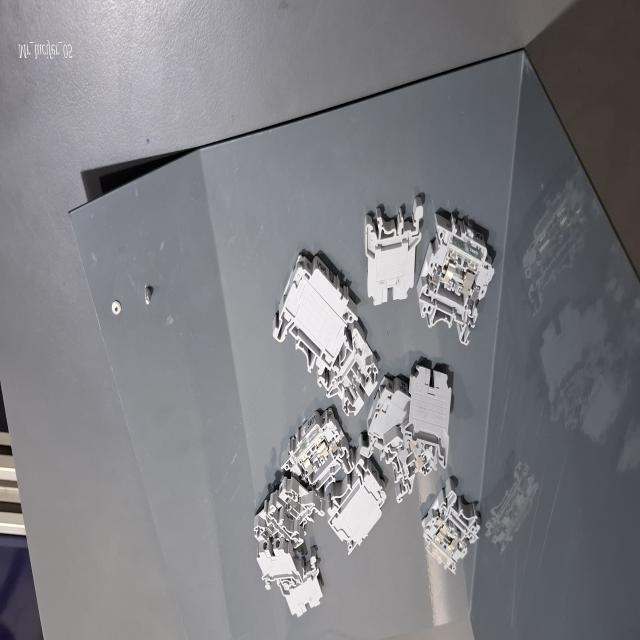Inverted: (365, 182, 427, 335), (396, 357, 457, 477), (254, 532, 304, 607)
Reject: (316, 325, 382, 423)
